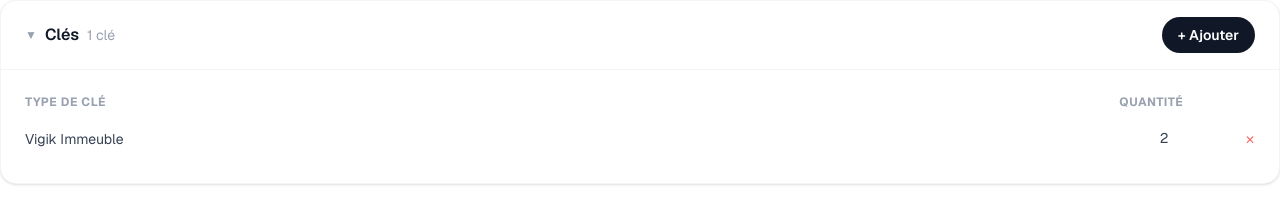
ApartmentKeysPanel — suppression › supprime une clé optimistiquement avec ✕
The width and height of the screenshot is (1280, 202).
expect the text "Vigik Immeuble" is shown: met, box [25,118,727,159]
Step 1. Click the button titled "Supprimer" → (1250, 140), box [1245,132,1255,148]
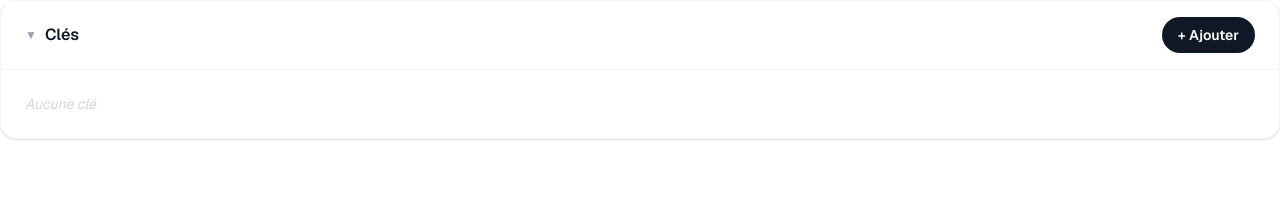
expect the text "Vigik Immeuble" is gone: met
